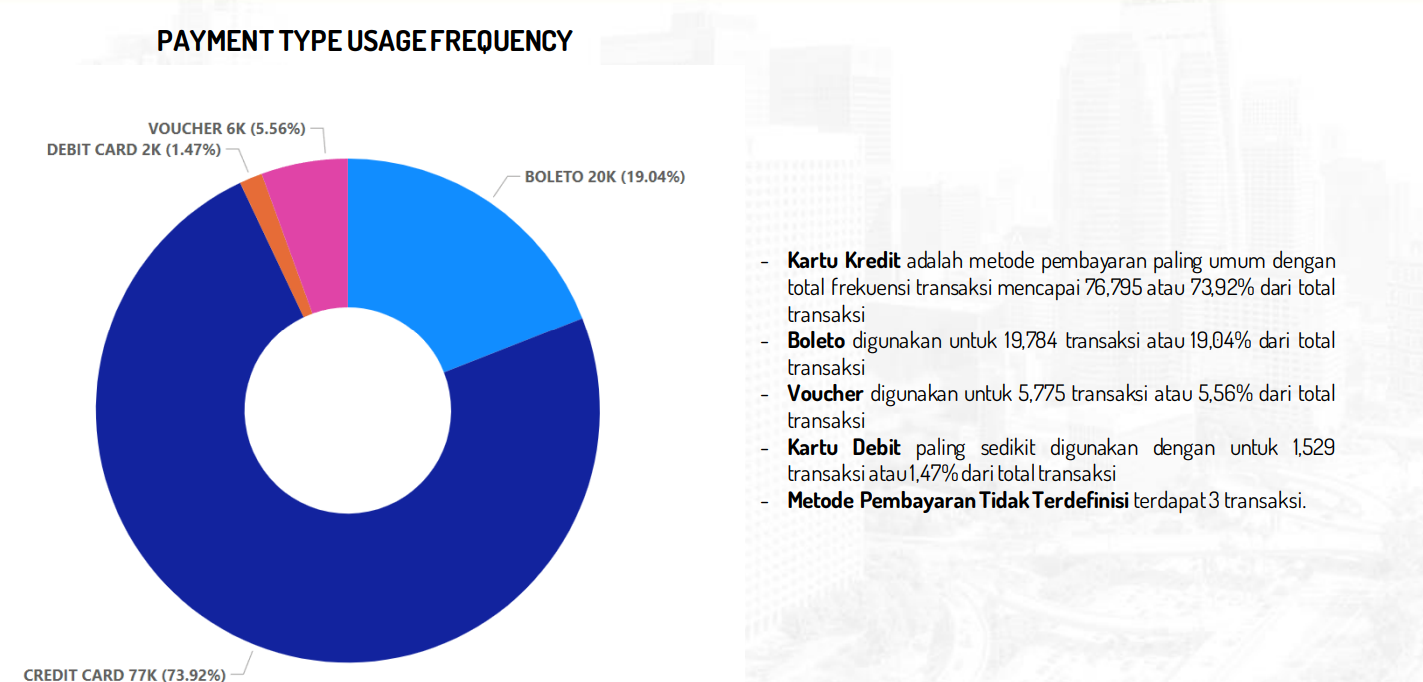

Layout of this report page (visuals, bound fields, positions):
{"tool":"powerbi","page":{"name":"payment_type_1","canvas":[1280,720],"ordinal":0},"visuals":[{"type":"donutChart","title":"PAYMENT TYPE USAGE FREQUENCY","fields":{"Y":["Sum(master_table_annual_payment_type_usage.boleto)","Sum(master_table_annual_payment_type_usage.credit_card)","Sum(master_table_annual_payment_type_usage.debit_card)","Sum(master_table_annual_payment_type_usage.not_defined)","Sum(master_table_annual_payment_type_usage.voucher)"]},"box":[10.5,0,1269.3,720.2],"z":0}]}

Visuals, with their boxes on the page's 1280x720 design canvas (x1, y1, x2, y2). These are canvas units, not pixel positions in the 1423x682 screenshot, which may show the page scaled, cropped or inside an application window:
"PAYMENT TYPE USAGE FREQUENCY" donutChart: (left=10, top=0, right=1280, bottom=720)
